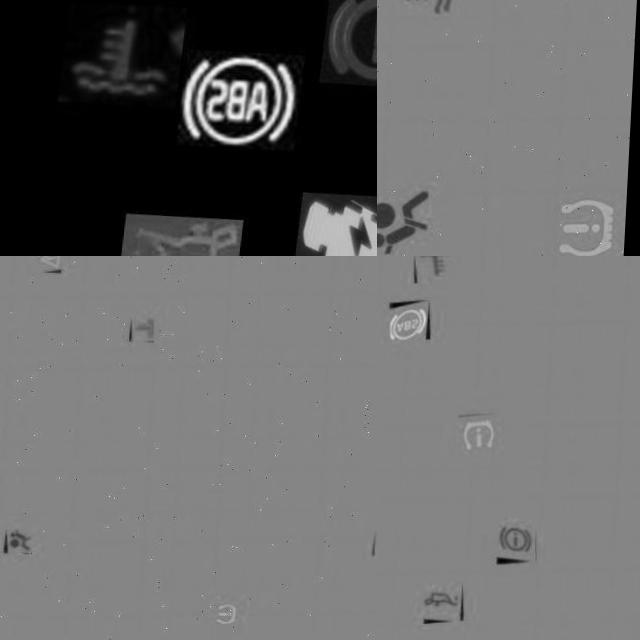Engine cooling system: (60, 1, 189, 109)
